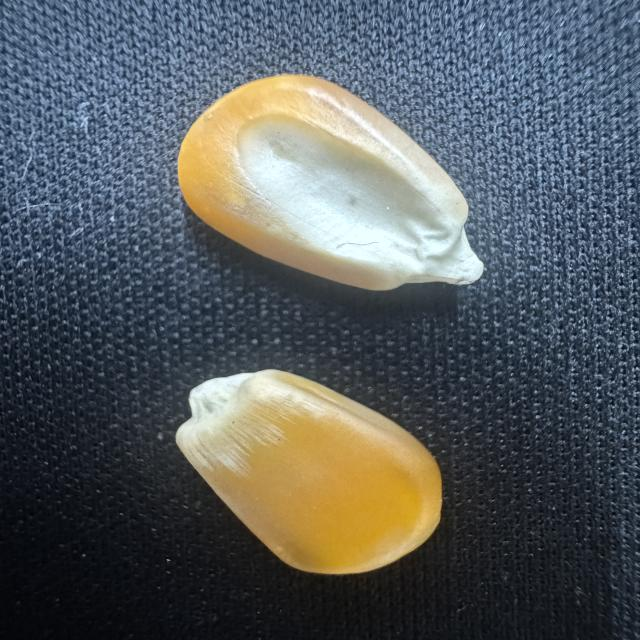Good-Seed: (172, 69, 490, 293), (171, 365, 446, 579)
